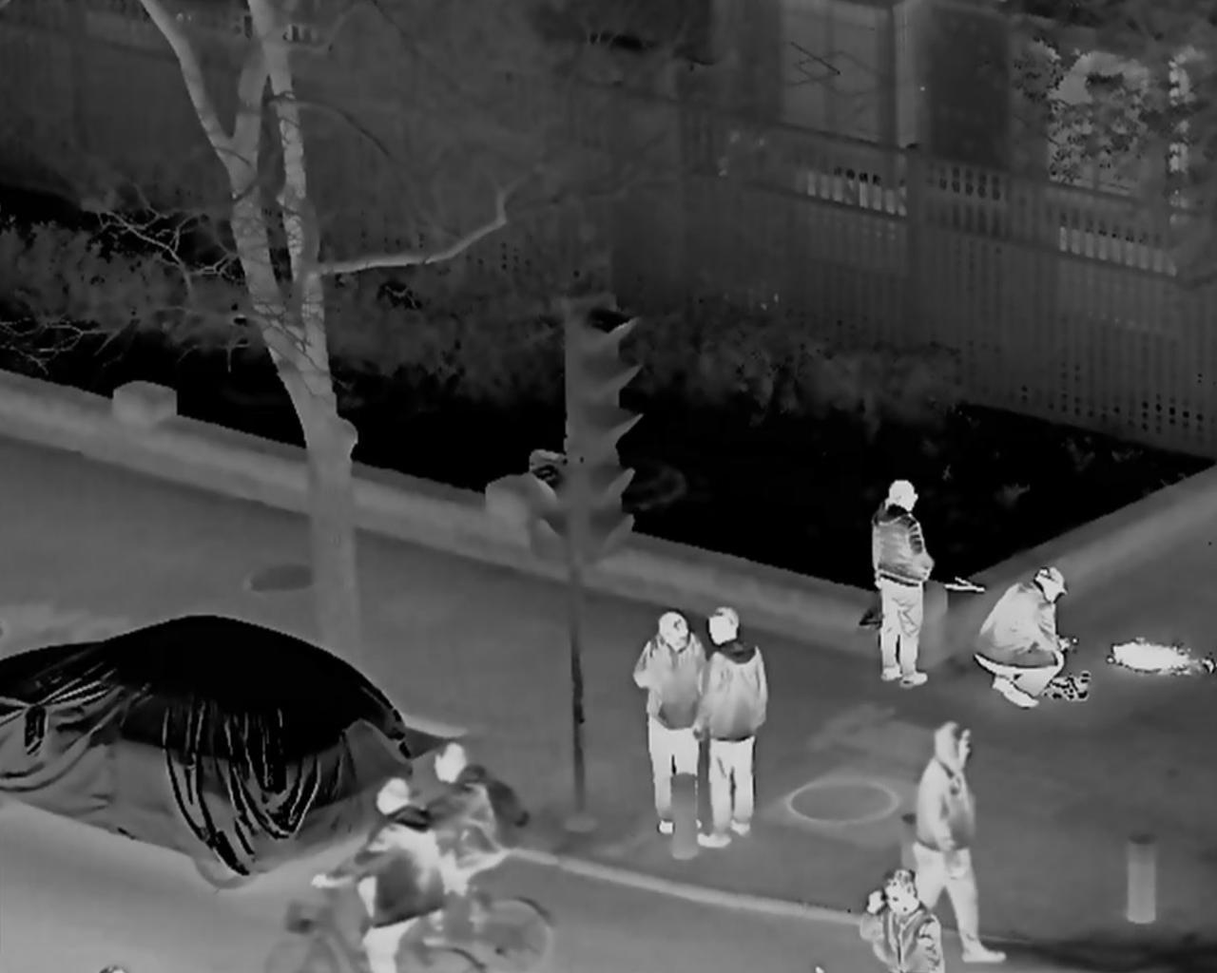person: (897, 720, 1011, 963), (317, 786, 445, 973), (404, 742, 513, 930), (629, 605, 704, 840), (693, 603, 763, 850), (973, 565, 1072, 707), (867, 478, 930, 689), (860, 866, 949, 973)
